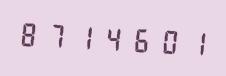eight: (17, 15, 43, 52)
four: (98, 19, 124, 56)
one: (71, 17, 97, 55), (179, 23, 205, 60)
seven: (44, 16, 70, 53)
six: (125, 20, 151, 58)
zero: (152, 22, 178, 59)
